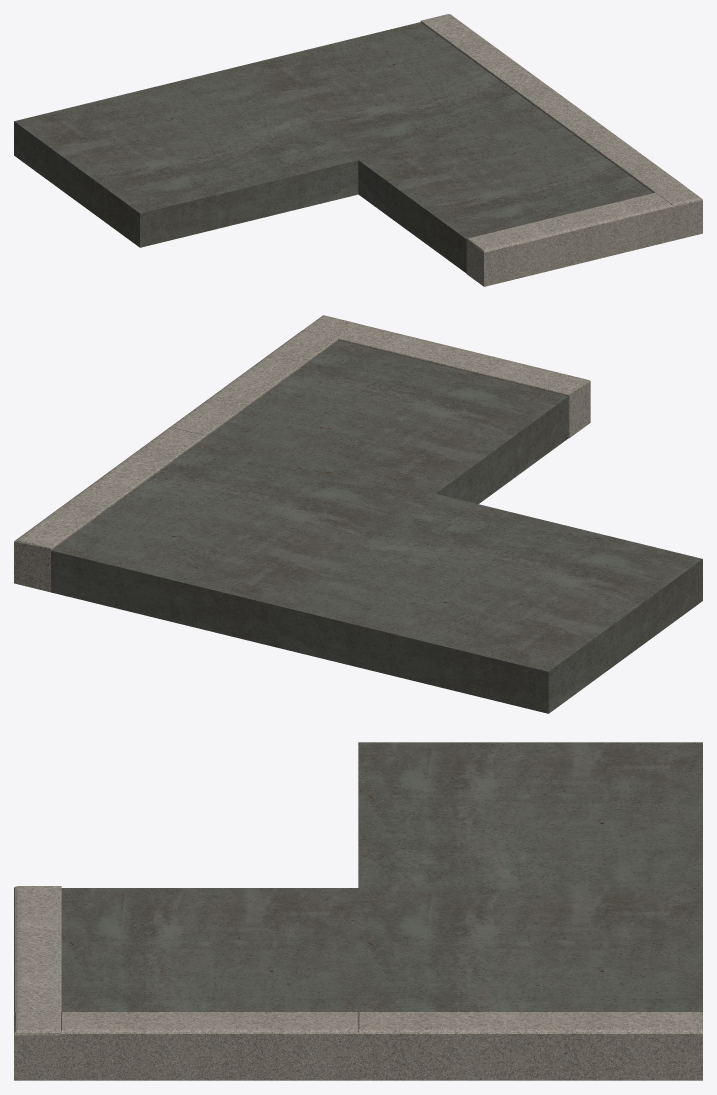
Rendered from Pavement.fbx.
3 renders of one model, top to bottom at view 1: azimuth 30°, elevation 25°; view 2: azimuth 150°, elevation 25°; view 3: azimuth 270°, elevation 25°, orthographic. The views are drawn at different scales.
Visible parts, largest first — view 1: Corner, NoBorder, middle; view 2: NoBorder, middle, Corner; view 3: Corner, middle, NoBorder.
Boxes of the visible parts, x1,y1,x2,y2 form: Corner: (358,106,702,286); NoBorder: (14,68,358,247); middle: (233,14,575,160); NoBorder: (281,494,702,713); middle: (14,427,435,648); Corner: (169,315,590,503); Corner: (14,886,358,1080); middle: (358,888,702,1080); NoBorder: (358,742,702,887).
Size of the model in its own units: 400 by 31.38 by 400.
